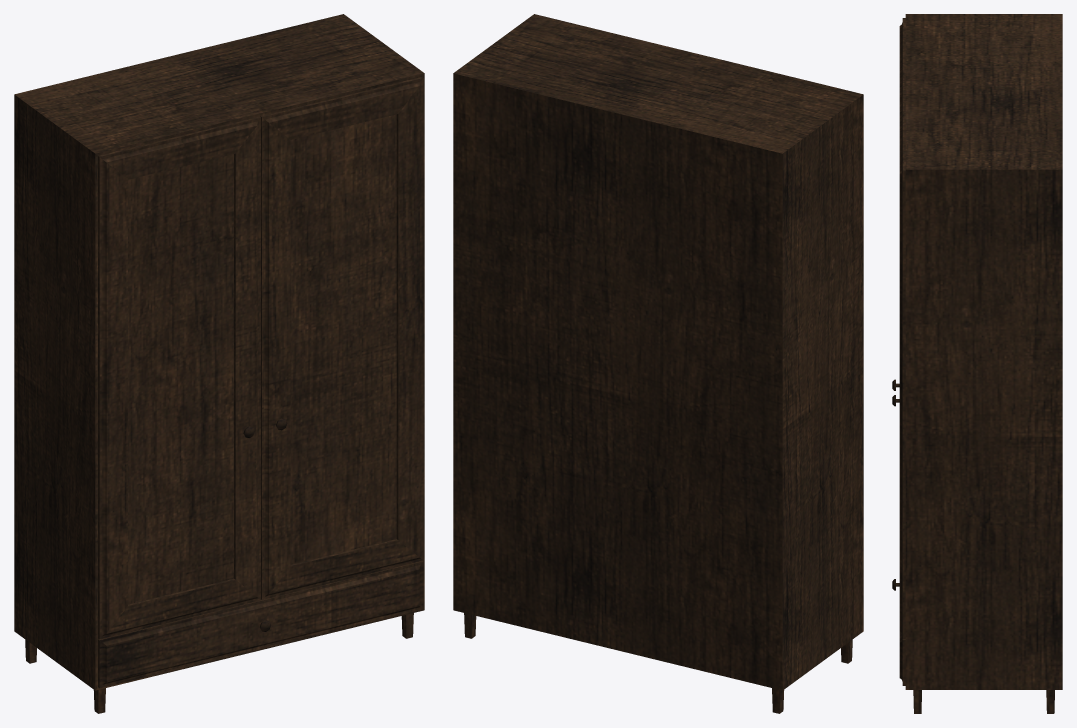
File: wardrobe_mp_1_1.obj
3 renders of one model, left to right at view 1: azimuth 30°, elevation 25°; view 2: azimuth 150°, elevation 25°; view 3: azimuth 270°, elevation 25°, orthographic. The views are drawn at different scales.
Visible parts, largest first — view 1: wardrobe_mp_1_1_door_2, wardrobe_mp_1_1_door_1, wardrobe_mp_1_1, wardrobe_mp_1_1_drawer; view 2: wardrobe_mp_1_1; view 3: wardrobe_mp_1_1, wardrobe_mp_1_1_door_2, wardrobe_mp_1_1_door_1, wardrobe_mp_1_1_drawer.
Part boxes in pixels (x1=…): wardrobe_mp_1_1_door_2: x1=260, y1=77, x2=423, y2=599; wardrobe_mp_1_1_door_1: x1=98, y1=116, x2=260, y2=639; wardrobe_mp_1_1: x1=14, y1=14, x2=424, y2=713; wardrobe_mp_1_1_drawer: x1=98, y1=561, x2=423, y2=688; wardrobe_mp_1_1: x1=453, y1=14, x2=863, y2=713; wardrobe_mp_1_1: x1=905, y1=14, x2=1062, y2=713; wardrobe_mp_1_1_door_2: x1=892, y1=95, x2=905, y2=638; wardrobe_mp_1_1_door_1: x1=892, y1=18, x2=905, y2=390; wardrobe_mp_1_1_drawer: x1=892, y1=579, x2=905, y2=685.
Size of the model in its own units: 1.22 by 2 by 0.5645.
